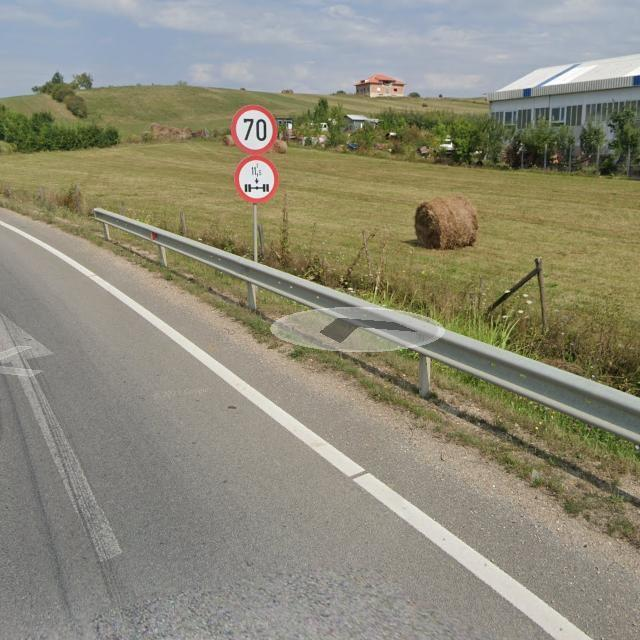forb_speed_over_70: (231, 105, 277, 155)
